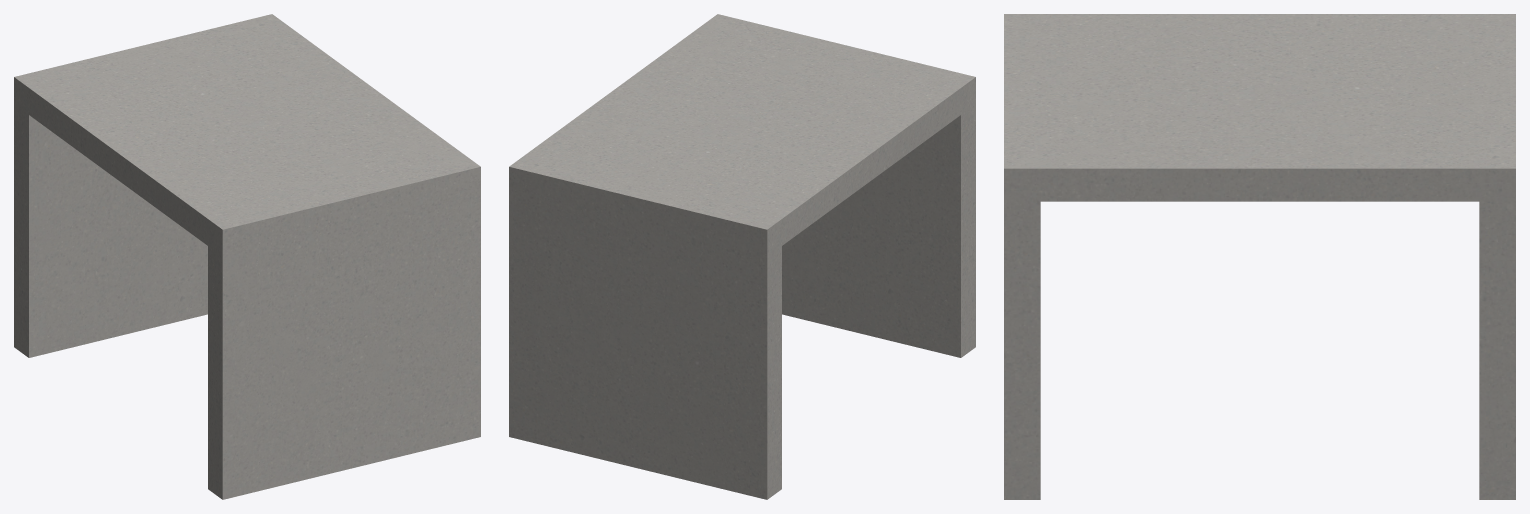
Rendered from Lavicka_Beton_Mini.fbx.
The picture shows the model from 3 angles, left to right: view 1: azimuth 30°, elevation 25°; view 2: azimuth 150°, elevation 25°; view 3: azimuth 270°, elevation 25°; orthographic projection. The views are drawn at different scales.
Visible parts, largest first — view 1: Lavicka_Beton_Mini; view 2: Lavicka_Beton_Mini; view 3: Lavicka_Beton_Mini.
Part boxes in pixels (x1,y1,x2,y2): Lavicka_Beton_Mini: [14, 14, 480, 499]; Lavicka_Beton_Mini: [509, 14, 975, 499]; Lavicka_Beton_Mini: [1004, 14, 1515, 499].
Bounding box in the file's own units: 50 × 50 × 70.
